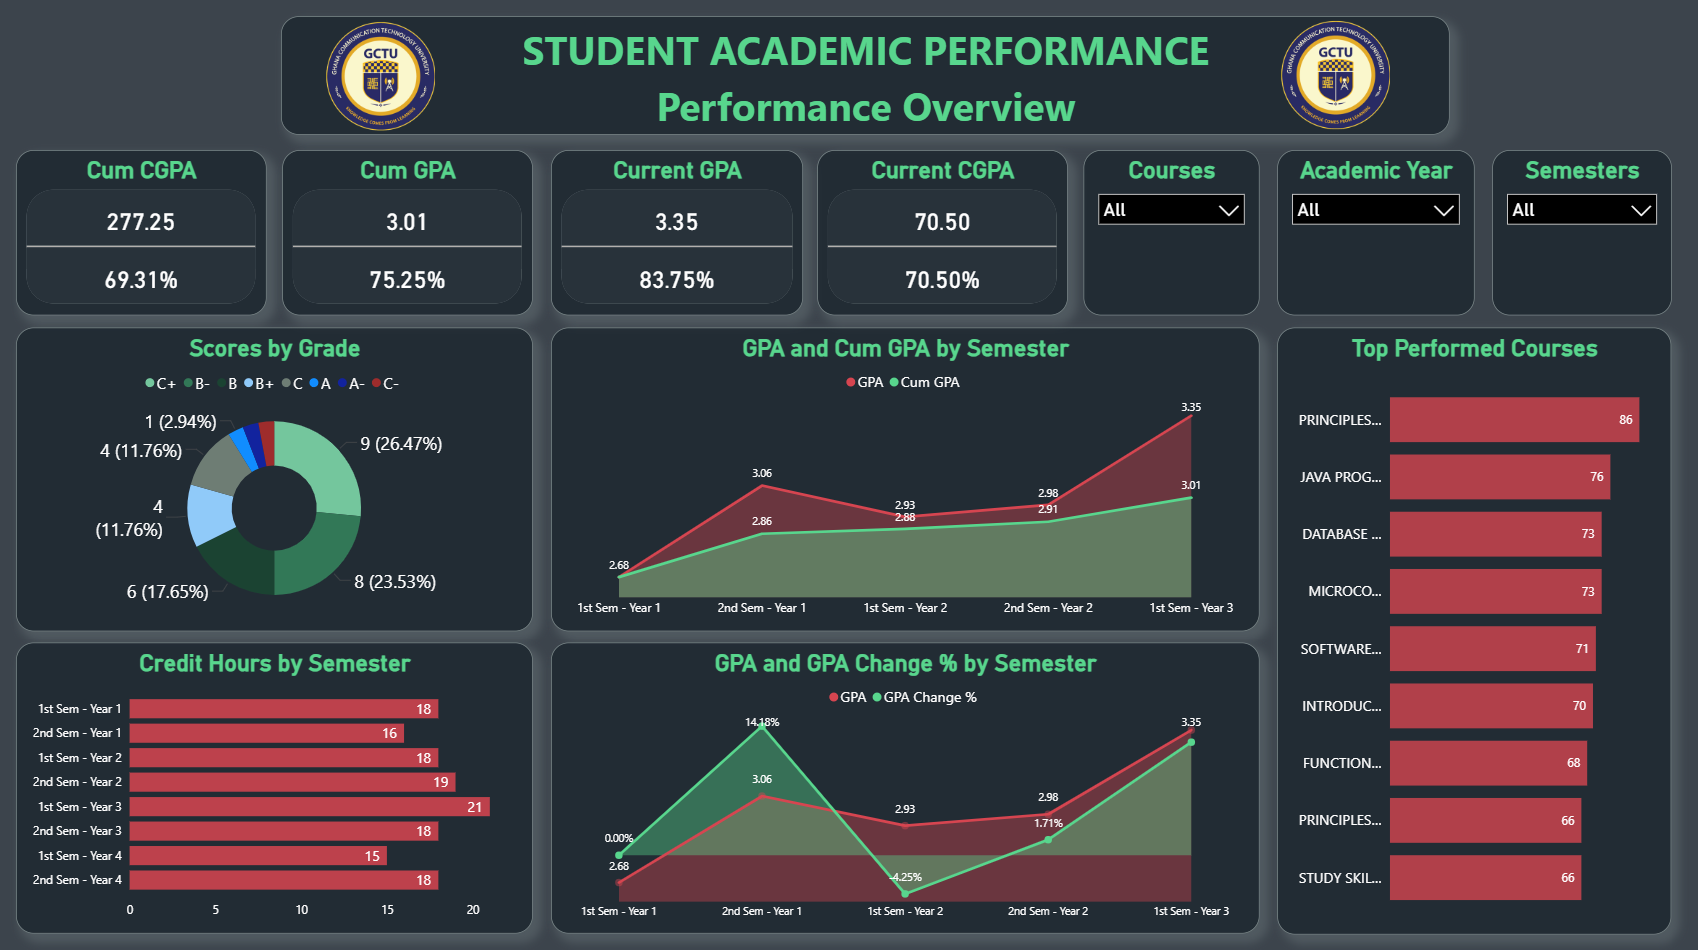

The page's visual inventory and layout, read from the dashboard file:
{"tool":"powerbi","page":{"name":"Academic Performance Overview","canvas":[1920,1080],"ordinal":0},"visuals":[{"type":"lineChart","title":"GPA and Cum GPA by Semester","fields":{"Category":["PROJECT_DIMESION.SemesterYear"],"Y":["Sum(GPA_Dimension.GPA)","Sum(GPA_Dimension.Cumulatuve_GPA)"]},"box":[626,374,798,342],"z":0},{"type":"slicer","title":"Courses","fields":{"Values":["GradeProjectFact.Courses_Tittle"]},"box":[1226,174,198,186],"z":1000},{"type":"slicer","title":"Semesters","fields":{"Values":["PROJECT_DIMESION.SemesterYear"]},"box":[1686,174,202,186],"z":2000},{"type":"cardVisual","title":"Current CGPA","fields":{"Data":["Table.Current CGPA","Table.CGPA %"]},"box":[926,174,282,186],"z":3000},{"type":"cardVisual","title":"Cum CGPA","fields":{"Data":["Table.Cum_CGPA","Table.Cum_CGPA %"]},"box":[22,174,282,186],"z":4000},{"type":"cardVisual","title":"Current GPA","fields":{"Data":["Table.Current GPA","Table.GPA %"]},"box":[626,174,284,186],"z":5000},{"type":"donutChart","title":"Scores by Grade","fields":{"Category":["GradeProjectFact.Grade"],"Y":["CountNonNull(GradeProjectFact.Scores)"]},"box":[22,374,582,342],"z":6000},{"type":"clusteredBarChart","title":"Credit Hours by Semester","fields":{"Category":["PROJECT_DIMESION.SemesterYear"],"Y":["Table.Total Crdit Hours"]},"box":[22,730,582,328],"z":7000},{"type":"barChart","title":"Top Performed Courses","fields":{"Category":["GradeProjectFact.Courses_Tittle"],"Y":["Sum(GradeProjectFact.Scores)"]},"box":[1444,374,444,684],"z":8000},{"type":"lineChart","title":"GPA and GPA Change % by Semester","fields":{"Category":["PROJECT_DIMESION.SemesterYear"],"Y":["Sum(GPA_Dimension.GPA)"],"Y2":["Table.GPA Change %"]},"box":[626,730,798,328],"z":9000},{"type":"shape","title":"STUDENT ACADEMIC PERFORMANCE ","box":[378,24,1260,132],"z":10000},{"type":"image","box":[378,24,258,132],"z":11000},{"type":"cardVisual","title":"Cum GPA","fields":{"Data":["Table.Cum_GPA","Table.Cum_GPA %"]},"box":[322,174,282,186],"z":12000},{"type":"slicer","title":"Academic Year","fields":{"Values":["PROJECT_DIMESION.Academic_Year"]},"box":[1444,174,222,186],"z":13000},{"type":"image","box":[1380,24,258,132],"z":14000}]}

Visuals, with their boxes in screenshot pixels (x1, y1, x2, y2), scaled from the page's 1920x1080 canvas onto the 1698x950 screenshot:
"GPA and Cum GPA by Semester" lineChart: 554 329 1259 630
"Courses" slicer: 1084 153 1259 317
"Semesters" slicer: 1491 153 1670 317
"Current CGPA" cardVisual: 819 153 1068 317
"Cum CGPA" cardVisual: 19 153 269 317
"Current GPA" cardVisual: 554 153 805 317
"Scores by Grade" donutChart: 19 329 534 630
"Credit Hours by Semester" clusteredBarChart: 19 642 534 931
"Top Performed Courses" barChart: 1277 329 1670 931
"GPA and GPA Change % by Semester" lineChart: 554 642 1259 931
"STUDENT ACADEMIC PERFORMANCE " shape: 334 21 1449 137
image: 334 21 562 137
"Cum GPA" cardVisual: 285 153 534 317
"Academic Year" slicer: 1277 153 1473 317
image: 1220 21 1449 137
